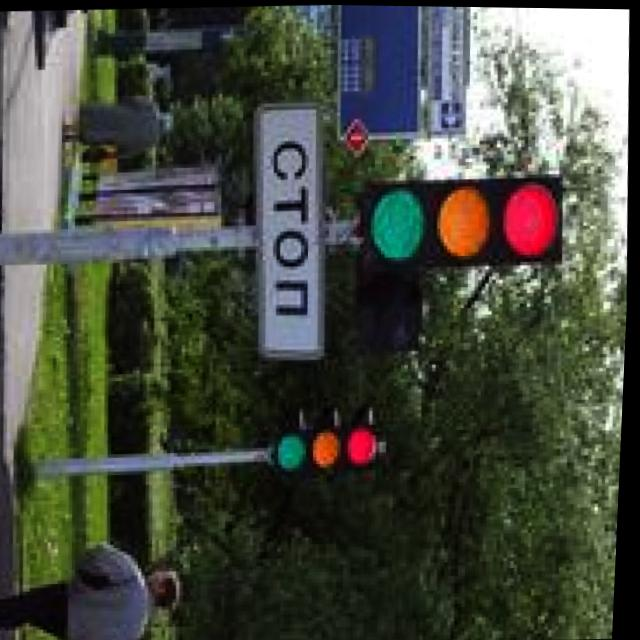green_light: (342, 161, 430, 287), (259, 409, 319, 502)
red_light: (489, 145, 579, 287), (340, 396, 394, 487)
yellow_light: (417, 167, 525, 289), (301, 422, 350, 484)
